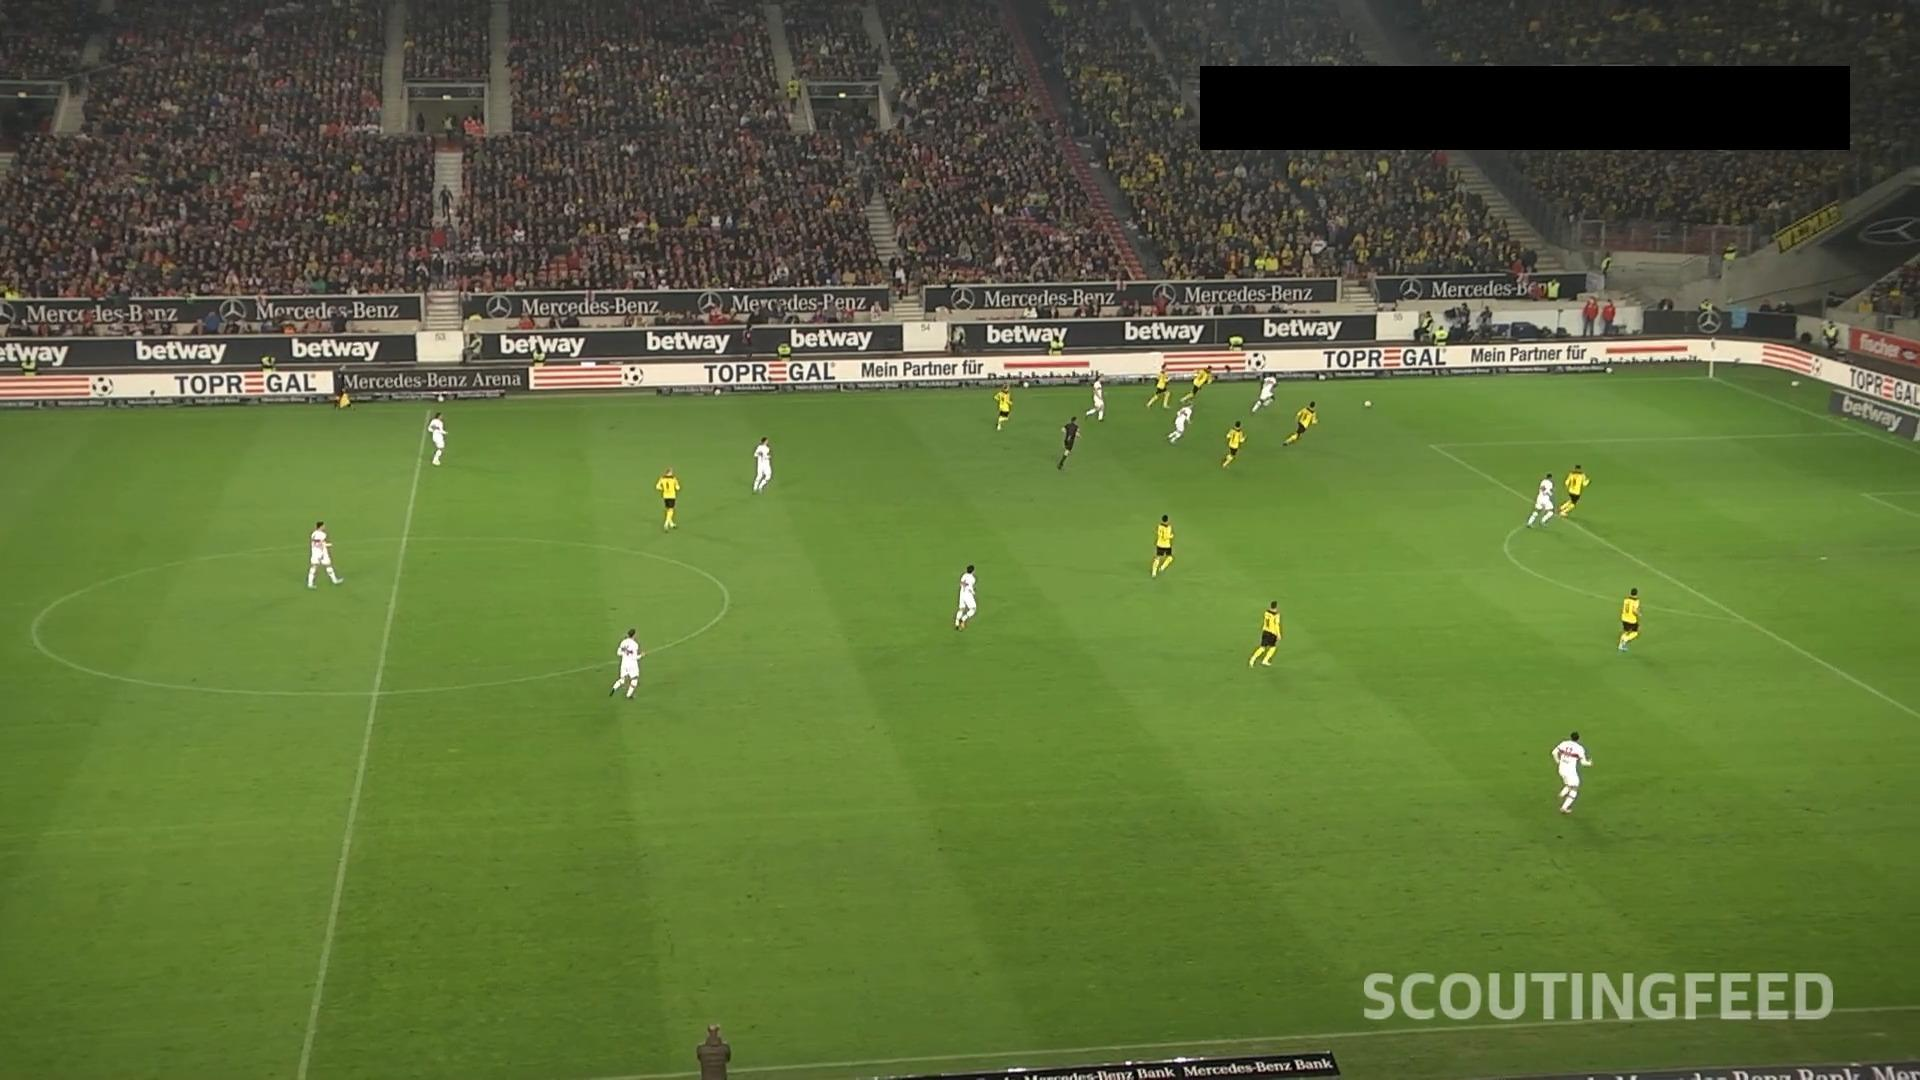ball: (1362, 398, 1374, 409)
